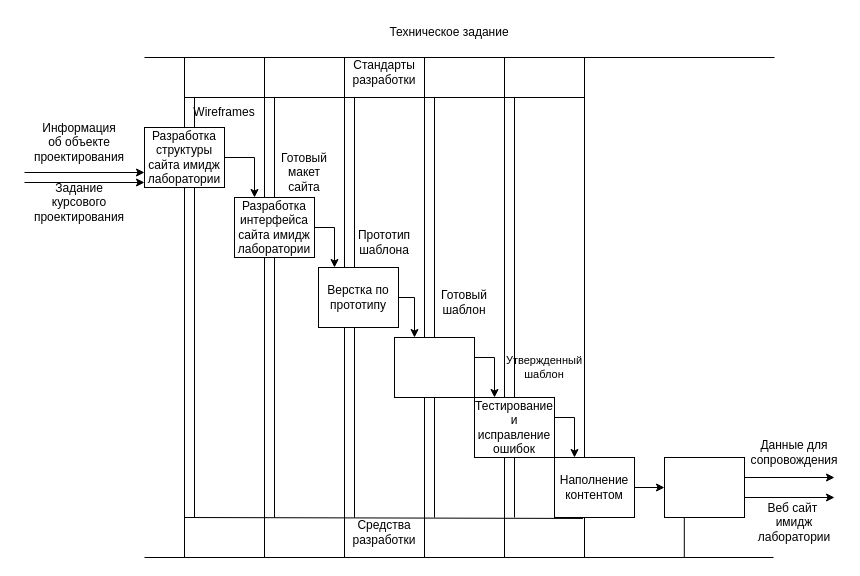
Image size: 860x576. Some labels were removed from this diagram. Here are the shapes that lost their labels. From the top down, the centre of each, then its label:
(434,367): Программ и рование
(704,487): Запуск сайта имидж лаборатории
